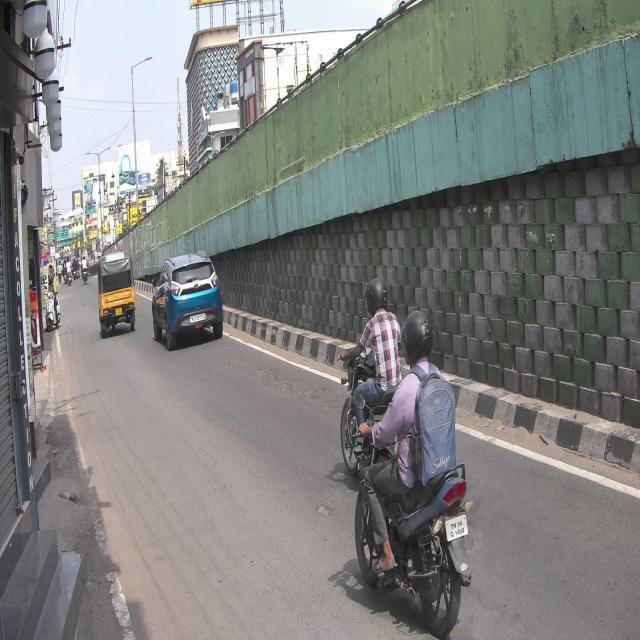single_rider: (356, 308, 474, 638)
